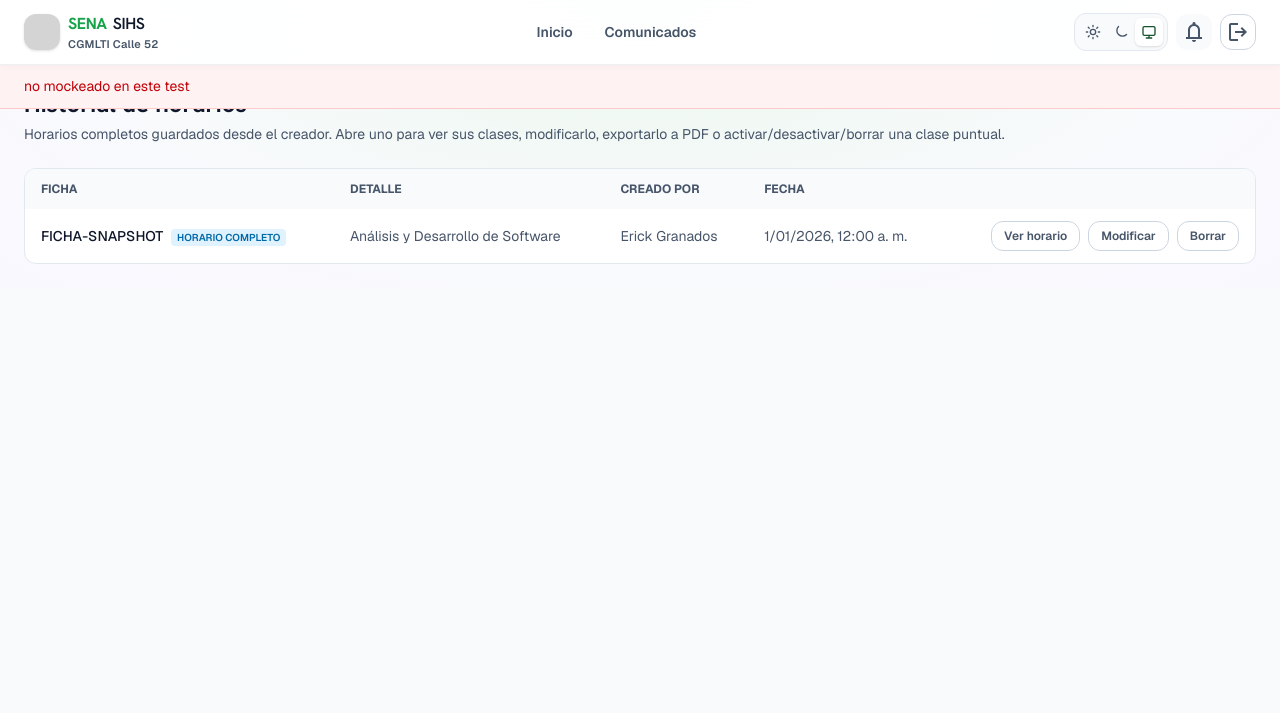
it: HistorialHorarios › un error al cambiar el estado de una clase se muestra en la página
Check: the text "FICHA-SNAPSHOT" is shown, box [41,227,163,245]
Click the button "Ver horario".
click(1036, 236)  # box [991,221,1080,251]
(page scrolled)
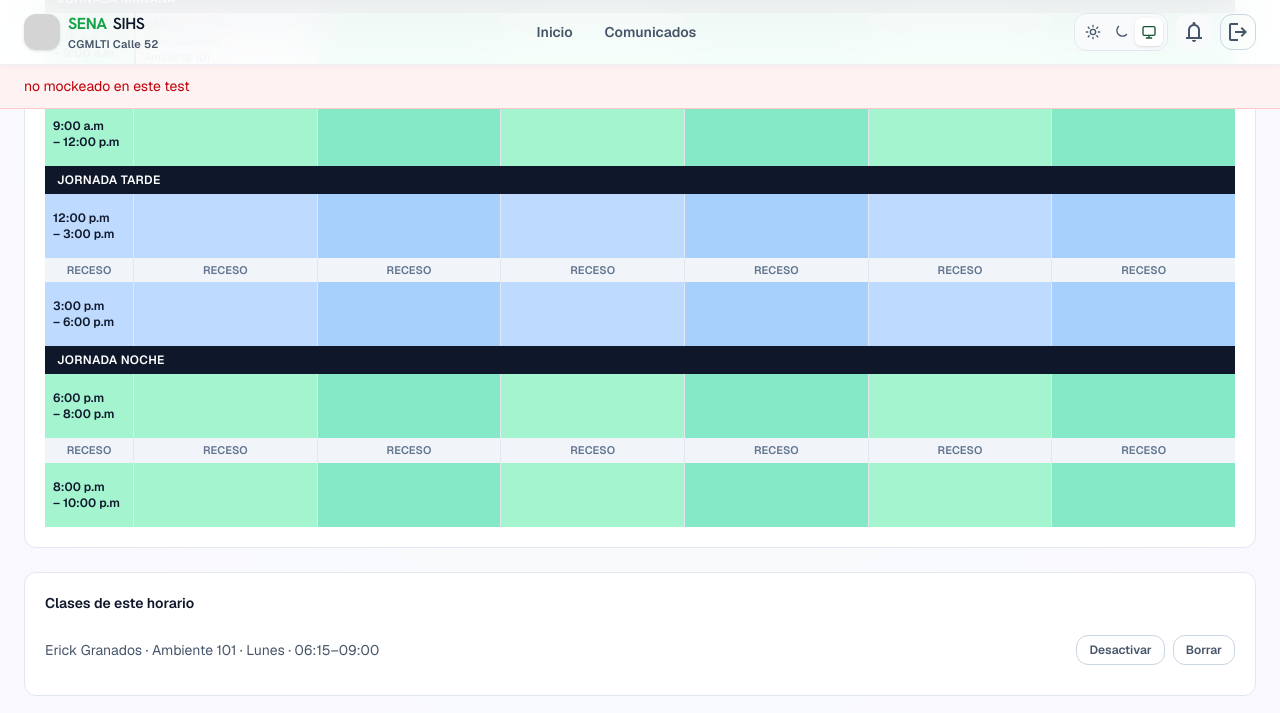
Check: the text "Clases de este horario" is shown, box [45,594,194,612]
Click the button with aria-label "Desactivar clase".
click(1121, 650)  # box [1076,634,1165,664]
(page scrolled)
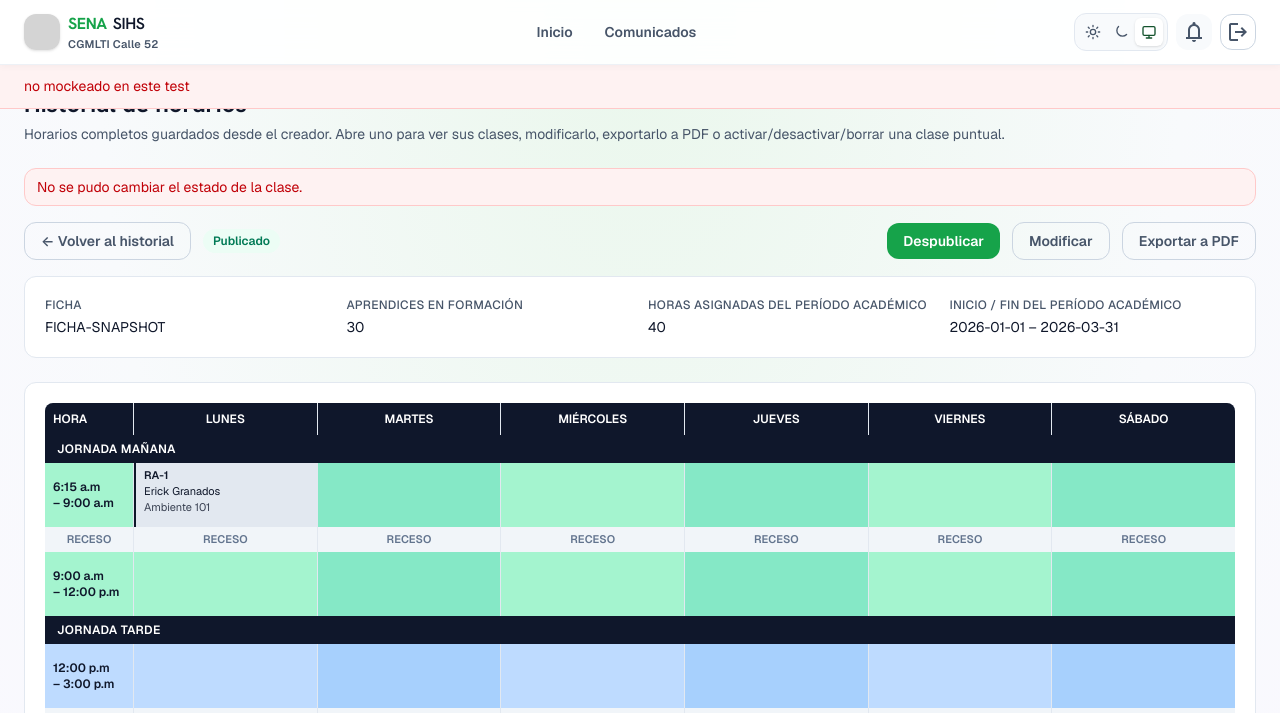
Check: the text "No se pudo cambiar el estado de la clase." is shown, box [24,168,1256,206]
